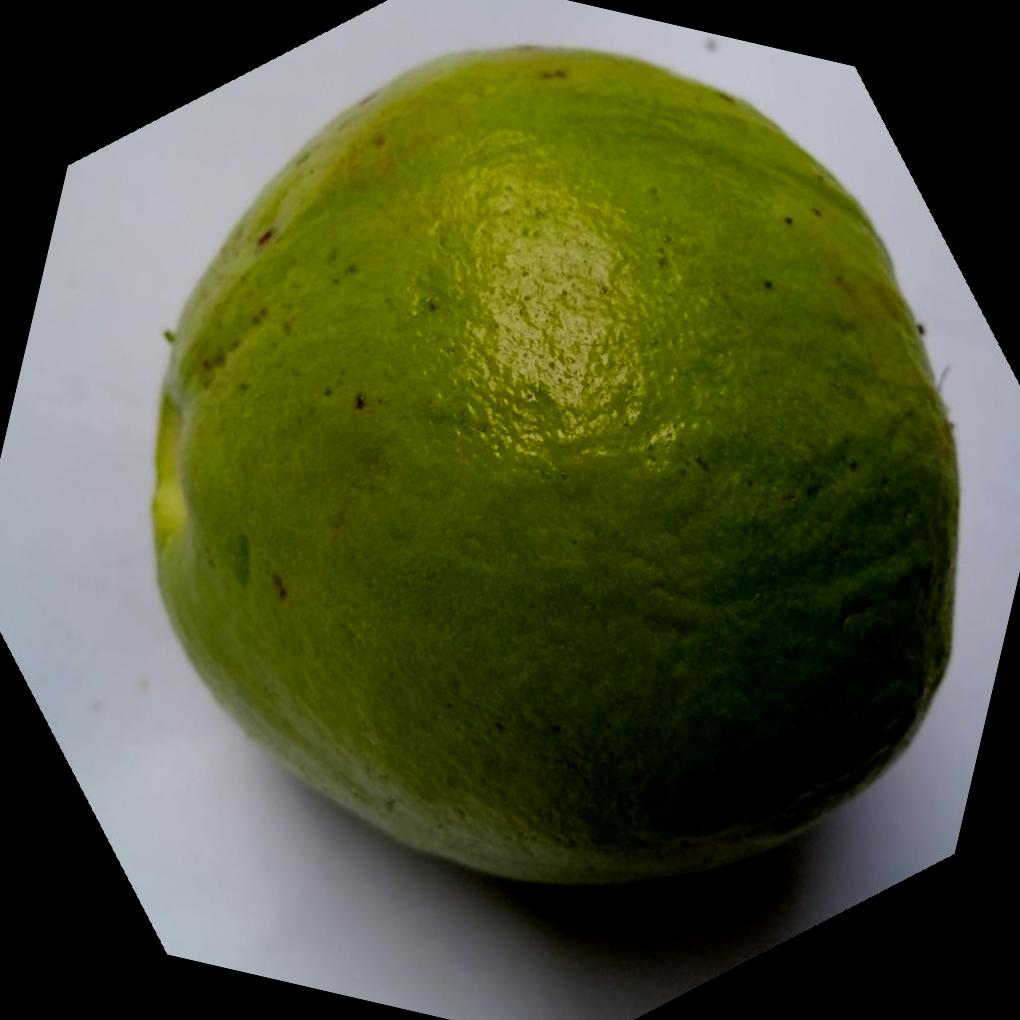FreshGuava: (143, 38, 959, 887)
